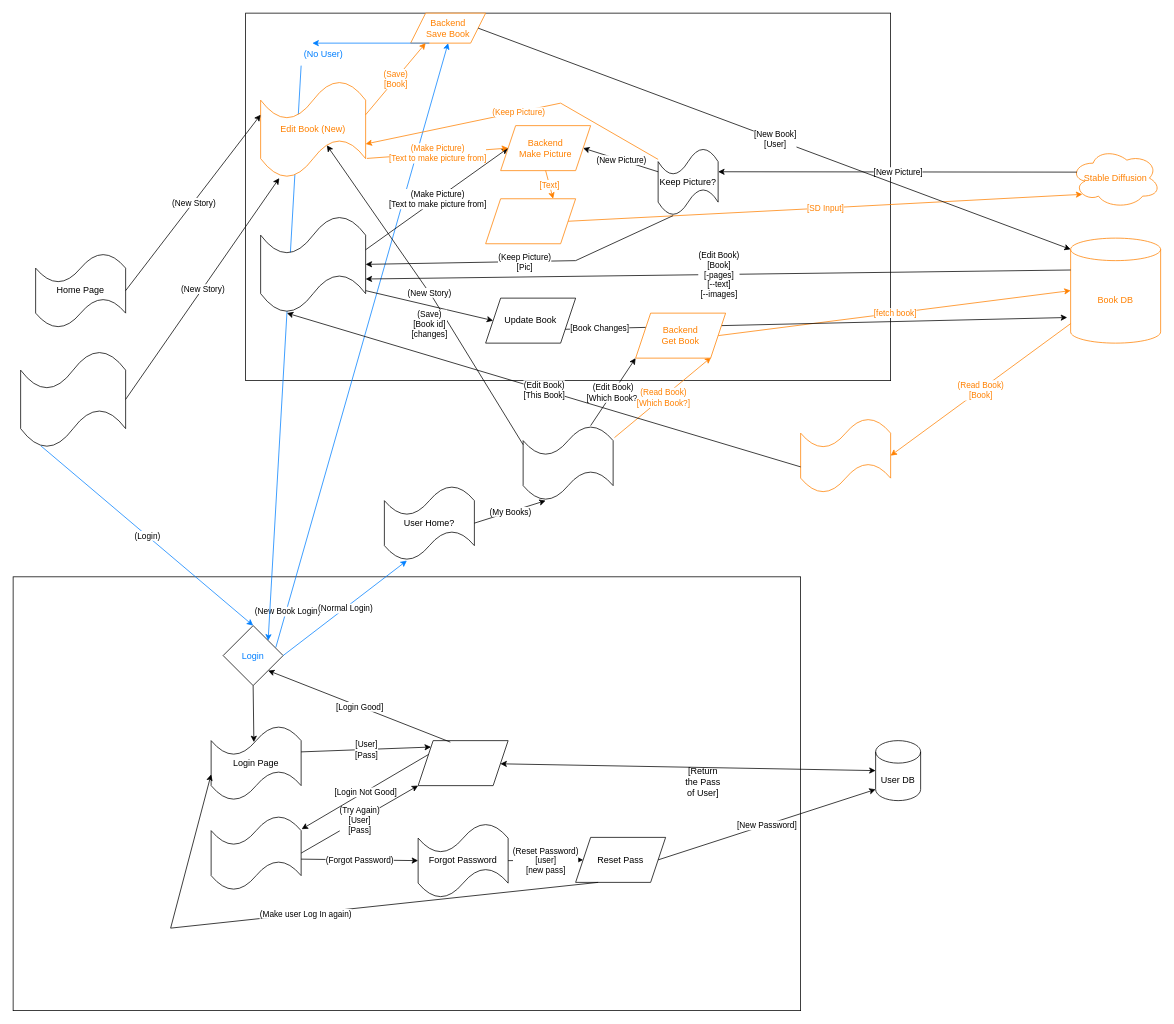
Some shapes in this 1174 by 1024 pixel diagram are drawn without their labels. The box of each missing label's shape, as (x1, y1, x2, y2) in pixels:
'Menu Bar': (20, 350, 126, 448)
Adapt Text for Stable Diffusion: (485, 198, 576, 244)
Check User/Pass: (417, 740, 508, 786)
Edit Book (Old): (260, 215, 366, 313)
Login Page (Failed): (210, 815, 301, 891)
My Books/ My Stories: (522, 425, 613, 501)
Read Book: (800, 417, 891, 493)
